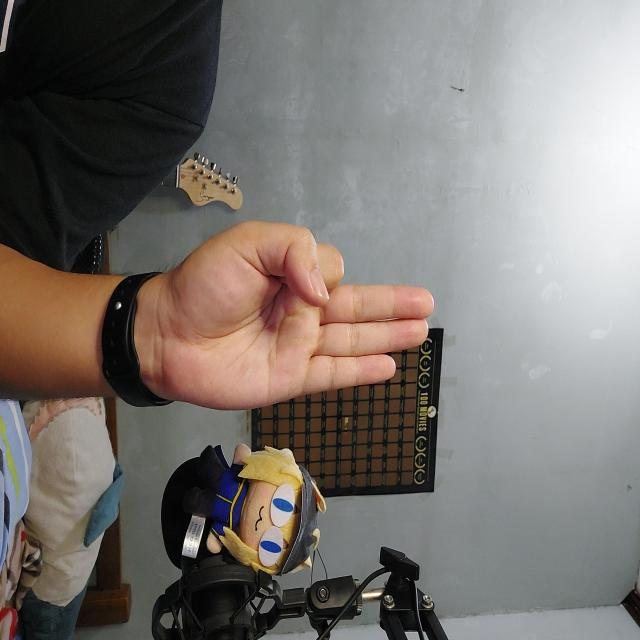F: (220, 202, 408, 488)
